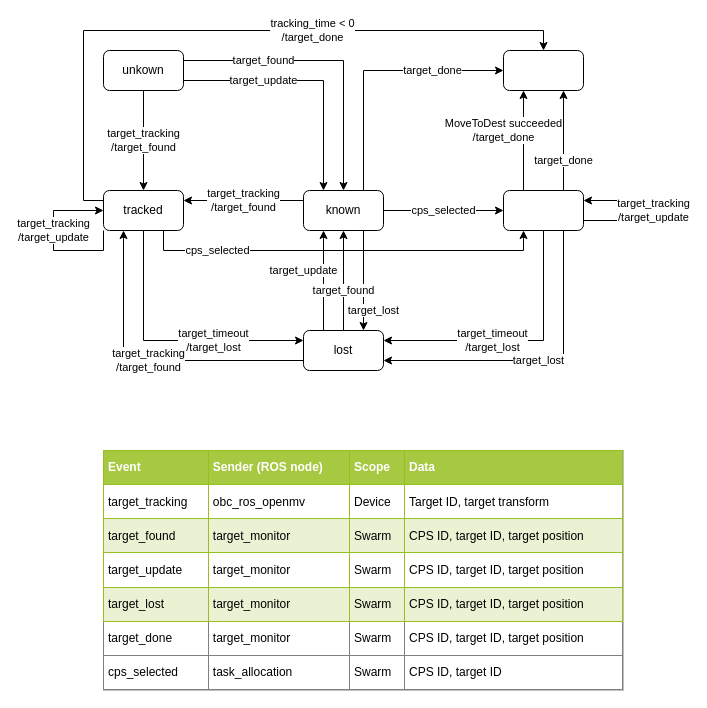
Some shapes in this 707 by 708 pixel diagram are drawn without their labels. Here are the shapes that lost their labels. From the top down, the centre of each, then its label:
the point at 543,70: done
the point at 543,210: assigned
